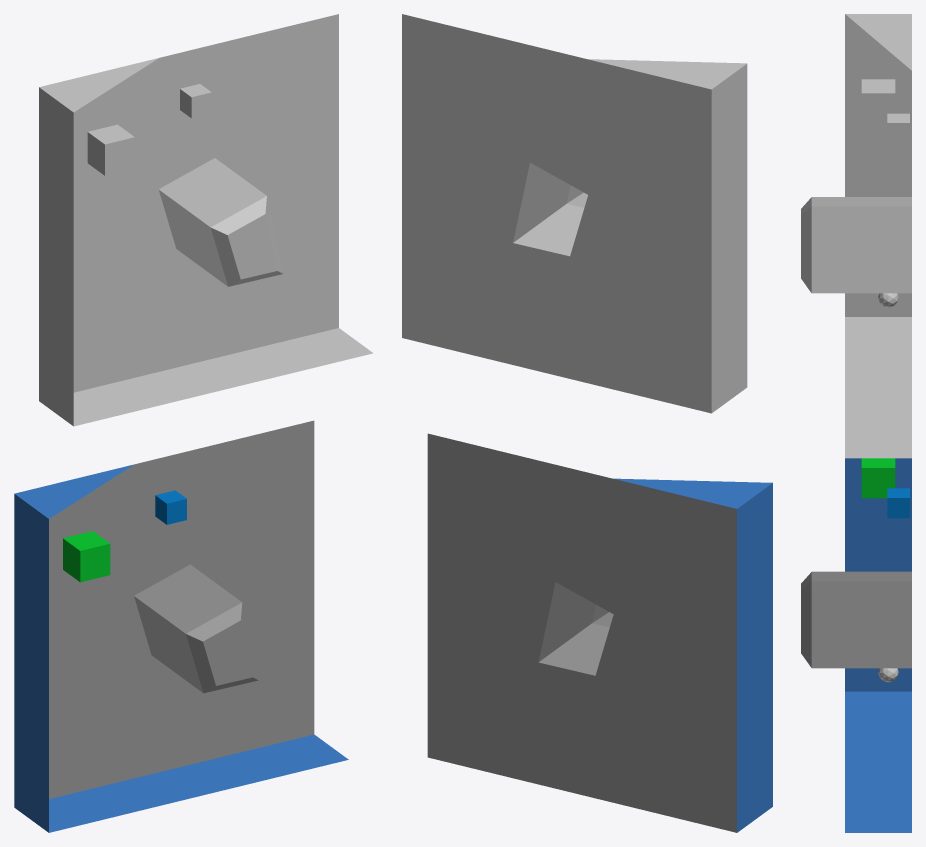
File: map.obj
3 renders of one model, left to right at view 1: azimuth 30°, elevation 25°; view 2: azimuth 150°, elevation 25°; view 3: azimuth 270°, elevation 25°, orthographic. The views are drawn at different scales.
Visible parts, largest first — view 1: Plane.001, Plane; view 2: Plane, Plane.001; view 3: Plane, Plane.001.
Boxes of the visible parts, bbox=[...] form: Plane.001: bbox=[14, 420, 348, 832]; Plane: bbox=[39, 14, 372, 426]; Plane: bbox=[402, 14, 747, 413]; Plane.001: bbox=[427, 433, 772, 832]; Plane: bbox=[801, 14, 911, 458]; Plane.001: bbox=[801, 458, 911, 832].
Bounding box in the file's own units: 10.82 × 22.75 × 3.32.
